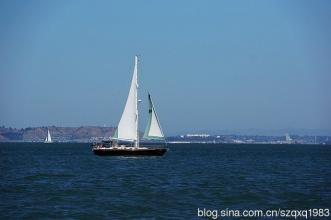fanchuan: (90, 53, 176, 156), (42, 125, 60, 145)
